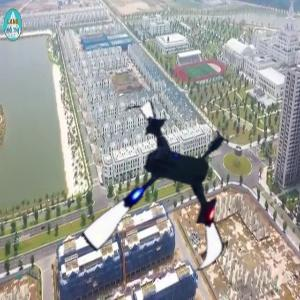drone: (76, 103, 261, 288)
